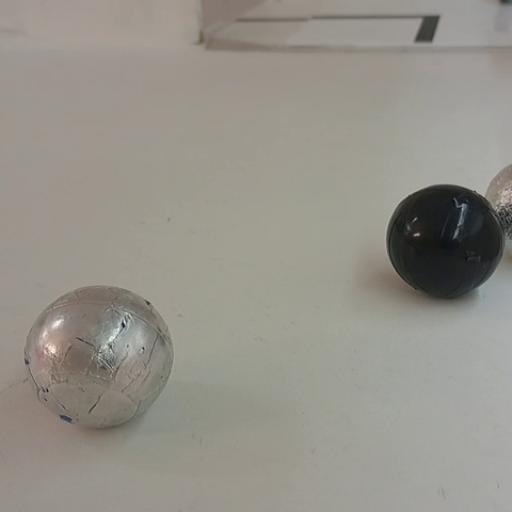alive: (18, 280, 182, 434), (484, 156, 512, 244)
dead: (382, 182, 506, 298)
